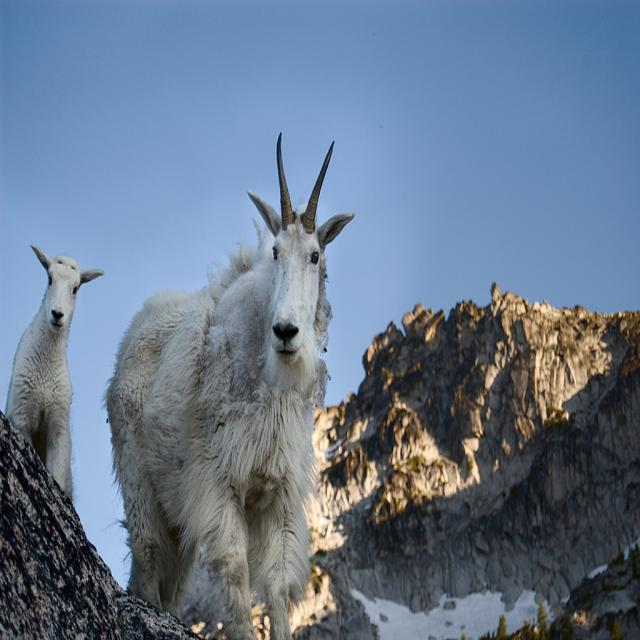Goat: (104, 129, 355, 638)
